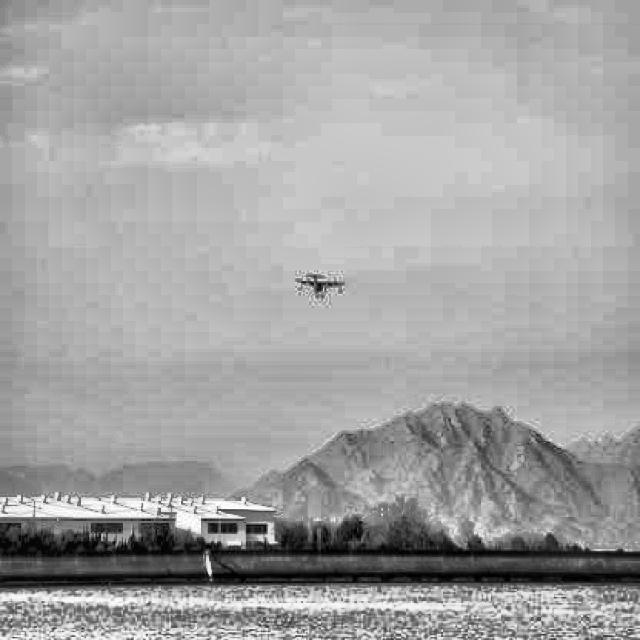US2: (296, 273, 346, 299)
